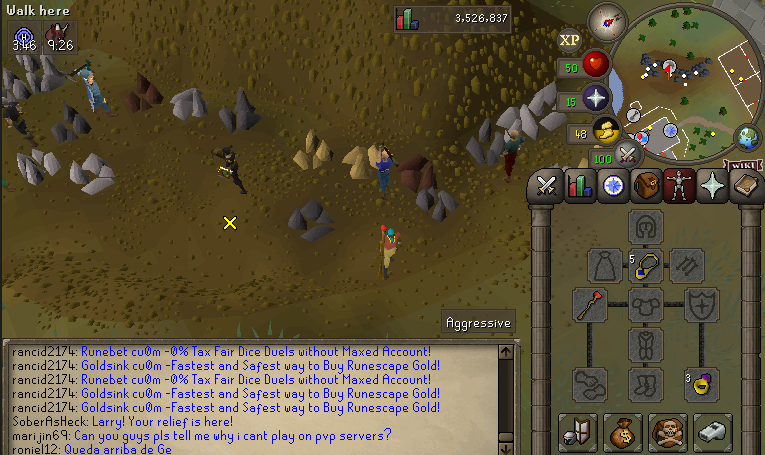depleted: (277, 189, 343, 248), (213, 81, 276, 140), (460, 110, 512, 171), (43, 98, 101, 146), (409, 184, 465, 227)
iron: (116, 64, 170, 120), (395, 148, 442, 194)
